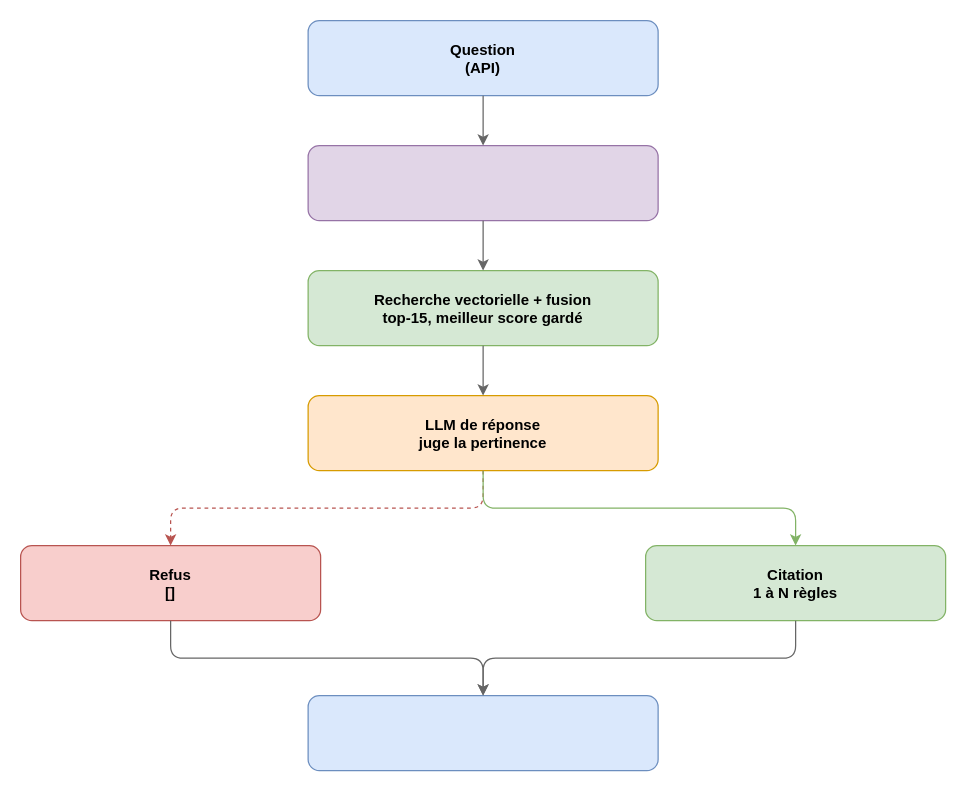
Image size: 966x791. Some labels were removed from this diagram. The shapes that lost their labels are listed below. From the top down, each one's centre as x and y in pixels, then its label:
At point (482, 182): "Décomposition (LLM) question → sous-questions".
At point (482, 732): "Réponse (API)".
